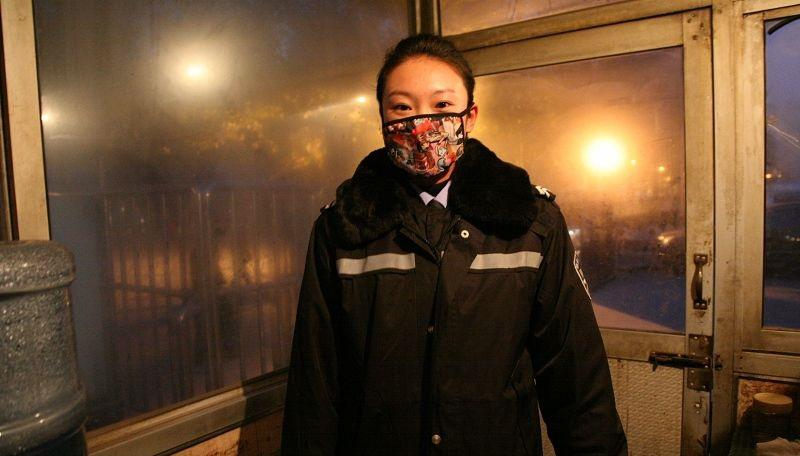OK: (376, 83, 466, 173)
